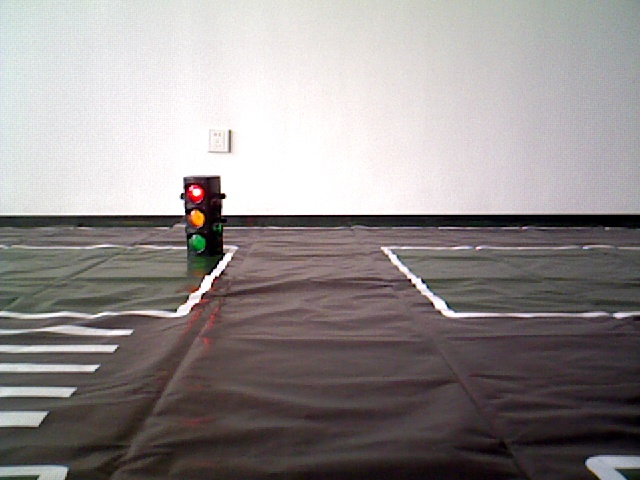red: (186, 177, 220, 256)
